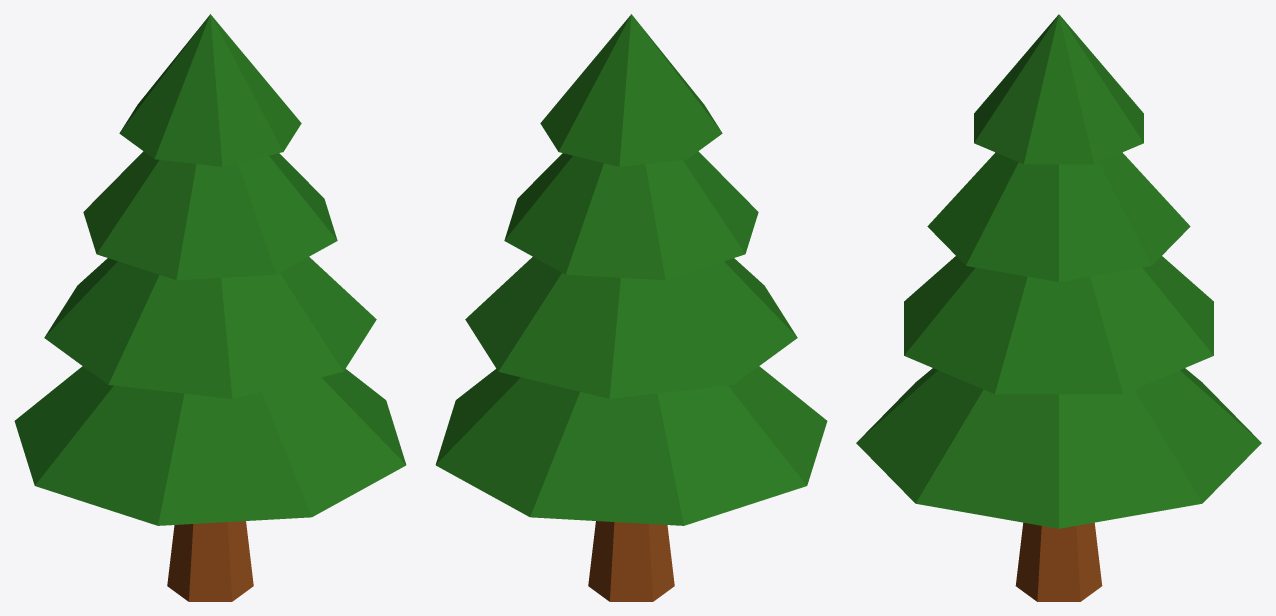
Rendered from prop-pine.glb.
3 views of the same model, side by side, from view 1: azimuth 30°, elevation 25°; view 2: azimuth 150°, elevation 25°; view 3: azimuth 270°, elevation 25° (orthographic).
Parts seen in each view (by area): view 1: Prop_Pine; view 2: Prop_Pine; view 3: Prop_Pine.
Boxes of the visible parts, x1=… form: Prop_Pine: x1=14, y1=14, x2=406, y2=601; Prop_Pine: x1=435, y1=14, x2=827, y2=601; Prop_Pine: x1=856, y1=14, x2=1261, y2=601.
Bounding box in the file's own units: 4.5 × 7 × 4.5.
